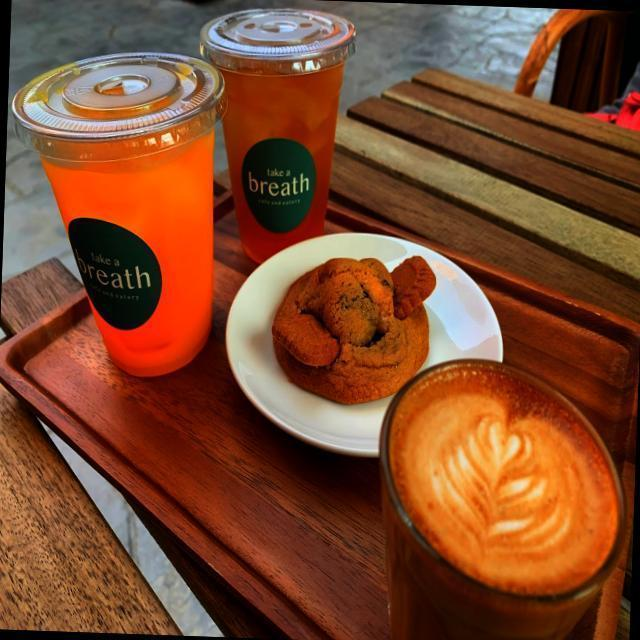cup: (10, 46, 222, 373), (208, 0, 391, 242)
